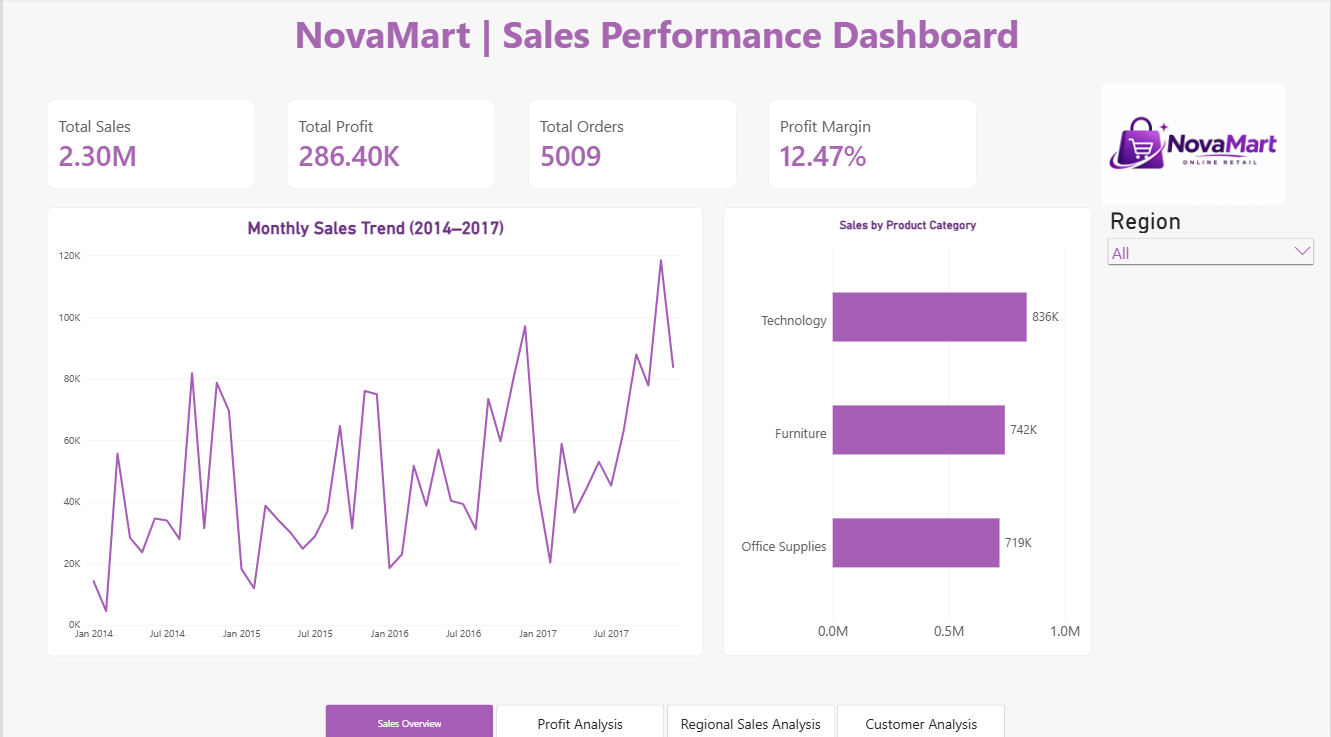

The page's visual inventory and layout, read from the dashboard file:
{"tool":"powerbi","page":{"name":"Sales Overview","canvas":[1920,1080],"ordinal":0},"visuals":[{"type":"cardVisual","fields":{"Data":["Sample - Superstore.Total Sales"]},"box":[63.8,148.6,302.6,129.7],"z":0},{"type":"textbox","box":[422,16.5,1076.5,109.1],"z":1000},{"type":"cardVisual","fields":{"Data":["Sample - Superstore.Total Profit"]},"box":[411.7,148.6,302.6,129.7],"z":2000},{"type":"cardVisual","fields":{"Data":["Sample - Superstore.Total Orders"]},"box":[759.5,148.6,302.6,129.7],"z":3000},{"type":"cardVisual","fields":{"Data":["Sample - Superstore.Profit Margin"]},"box":[1107.4,148.6,302.6,129.7],"z":4000},{"type":"image","box":[1558.2,125.6,329.3,177],"z":5000},{"type":"lineChart","title":"Monthly Sales Trend (2014–2017)","fields":{"Category":["Sample - Superstore.Order Date.Variation.Date Hierarchy.Year","Sample - Superstore.Order Date.Variation.Date Hierarchy.Month"],"Y":["Sample - Superstore.Total Sales"]},"box":[63.8,304.6,950,650],"z":6000},{"type":"clusteredBarChart","title":"Sales by Product Category","fields":{"Category":["Sample - Superstore.Category"],"Y":["Sample - Superstore.Total Sales"]},"box":[1042.4,304,533.8,649.7],"z":7000},{"type":"slicer","fields":{"Values":["Sample - Superstore.Region"]},"box":[1595.2,304.6,308.7,96.7],"z":7001},{"type":"pageNavigator","box":[466.1,1024.1,987.8,55.6],"z":7002}]}

Visuals, with their boxes in screenshot pixels (x1, y1, x2, y2), scaled from the page's 1920x1080 canvas onto the 1331x737 screenshot:
cardVisual - Sample - Superstore.Total Sales: <region>44, 101, 254, 190</region>
textbox: <region>293, 11, 1039, 86</region>
cardVisual - Sample - Superstore.Total Profit: <region>285, 101, 495, 190</region>
cardVisual - Sample - Superstore.Total Orders: <region>527, 101, 736, 190</region>
cardVisual - Sample - Superstore.Profit Margin: <region>768, 101, 977, 190</region>
image: <region>1080, 86, 1308, 206</region>
"Monthly Sales Trend (2014–2017)" lineChart: <region>44, 208, 703, 651</region>
"Sales by Product Category" clusteredBarChart: <region>723, 207, 1093, 651</region>
slicer - Sample - Superstore.Region: <region>1106, 208, 1320, 274</region>
pageNavigator: <region>323, 699, 1008, 736</region>
